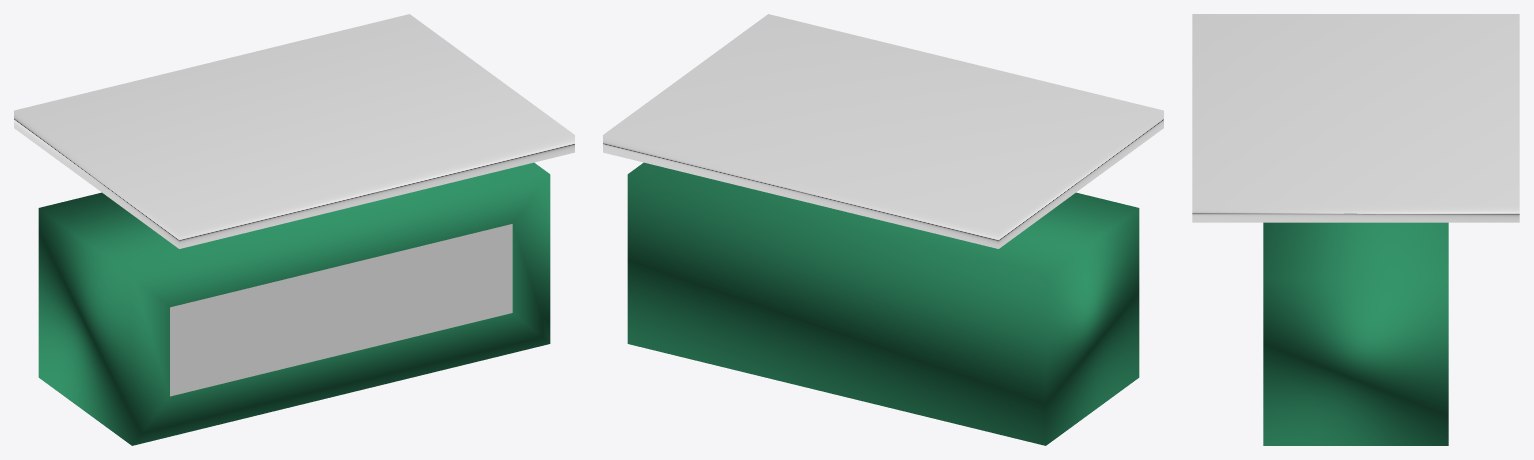
File: balance.glb
The picture shows the model from 3 angles, left to right: view 1: azimuth 30°, elevation 25°; view 2: azimuth 150°, elevation 25°; view 3: azimuth 270°, elevation 25°; orthographic projection.
Visible parts, largest first — view 1: Balance Body, Cube.017; view 2: Balance Body, Cube.017; view 3: Cube.017, Balance Body.
Part boxes in pixels (x1,y1,x2,y2): Balance Body: (38,162,550,445); Cube.017: (14,14,574,248); Balance Body: (627,162,1139,445); Cube.017: (603,14,1163,248); Cube.017: (1192,14,1519,222); Balance Body: (1263,222,1448,445).
Size of the model in its own units: 5.16 by 2.81 by 3.53.
